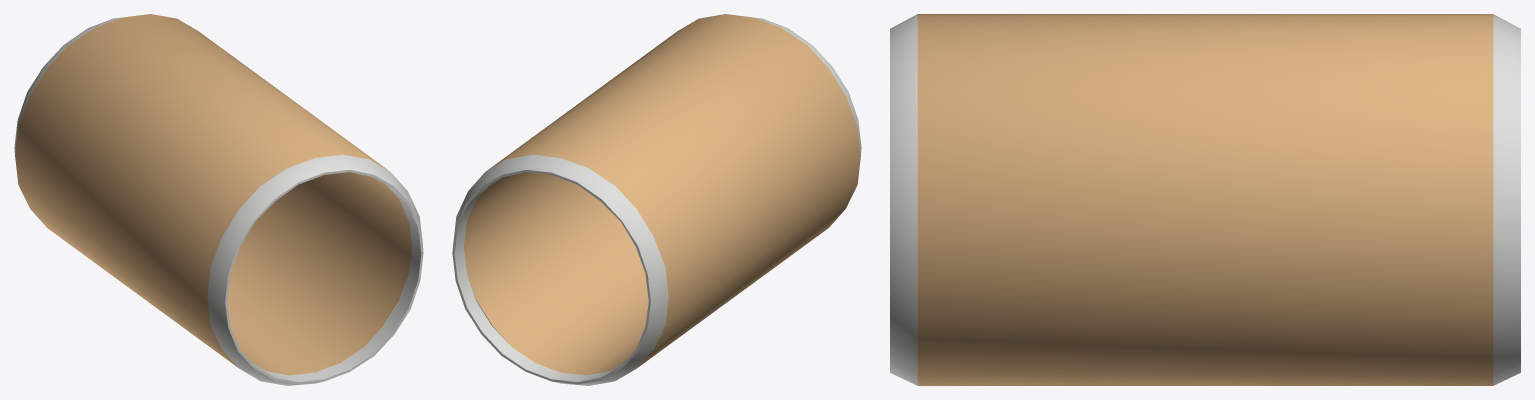
The model's file is slab_pipes_supply__plumbing-copper_and_water_heater-closet_electric_tank+closet_gas_tank.glb.
3 views of the same model, side by side, from view 1: azimuth 30°, elevation 25°; view 2: azimuth 150°, elevation 25°; view 3: azimuth 270°, elevation 25° (orthographic). The views are drawn at different scales.
Visible parts, largest first — view 1: fit_header_inlet_pipe_supply_hot_wh_closet__copper; view 2: fit_header_inlet_pipe_supply_hot_wh_closet__copper; view 3: fit_header_inlet_pipe_supply_hot_wh_closet__copper.
Boxes of the visible parts, box(x1,y1,x2,y2) form: fit_header_inlet_pipe_supply_hot_wh_closet__copper: box(14, 14, 423, 385); fit_header_inlet_pipe_supply_hot_wh_closet__copper: box(452, 14, 861, 385); fit_header_inlet_pipe_supply_hot_wh_closet__copper: box(890, 14, 1520, 385).
Size of the model in its own units: 0.0247 by 0.0247 by 0.0417.
